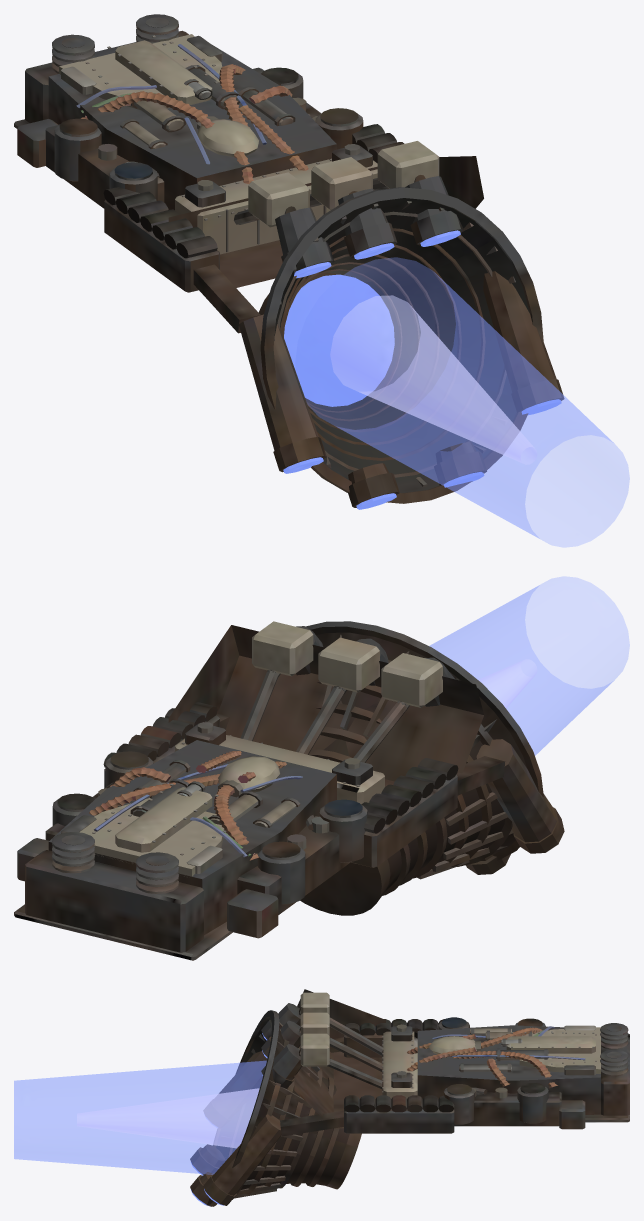
File: thruster.glb
3 renders of one model, top to bottom at view 1: azimuth 30°, elevation 25°; view 2: azimuth 150°, elevation 25°; view 3: azimuth 270°, elevation 25°, orthographic. The views are drawn at different scales.
Parts seen in each view (by area): view 1: body, anim_glow_plume, anim_glow_flame; view 2: body, anim_glow_plume; view 3: body, anim_glow_plume.
Part boxes in pixels (x1,y1,x2,y2): body: (14, 14, 564, 507); anim_glow_plume: (295, 257, 629, 547); anim_glow_flame: (283, 230, 561, 509); body: (14, 621, 564, 960); anim_glow_plume: (429, 576, 629, 755); body: (190, 989, 629, 1206); anim_glow_plume: (14, 1060, 266, 1174).
Size of the model in its own units: 3.99 by 3.73 by 11.74.
Materials: 4 (4 with a texture image).
